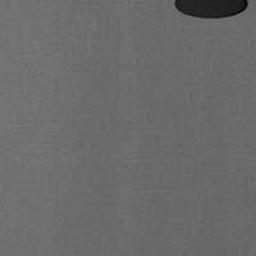Punching: (174, 0, 247, 19)
